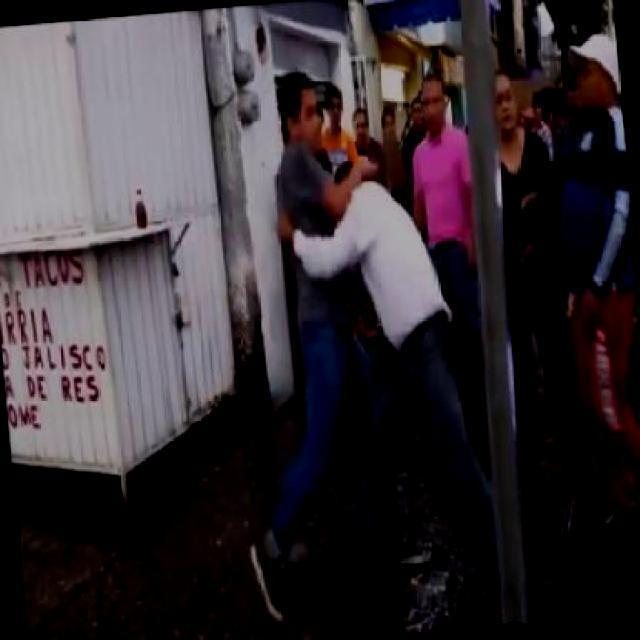fight: (254, 55, 500, 608)
non-fight: (528, 33, 638, 556)
